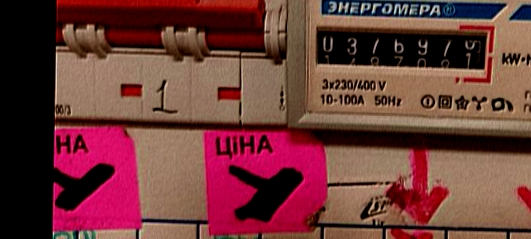0: (323, 33, 337, 54)
1: (465, 51, 477, 69)
3: (347, 36, 361, 56)
6: (394, 34, 408, 55)
7: (370, 34, 384, 55), (442, 37, 455, 59)
9: (418, 36, 431, 57)
screen: (310, 18, 501, 85)
